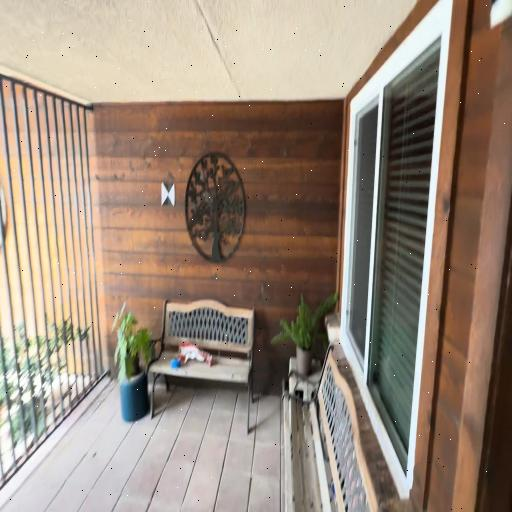target: (162, 183, 175, 207)
